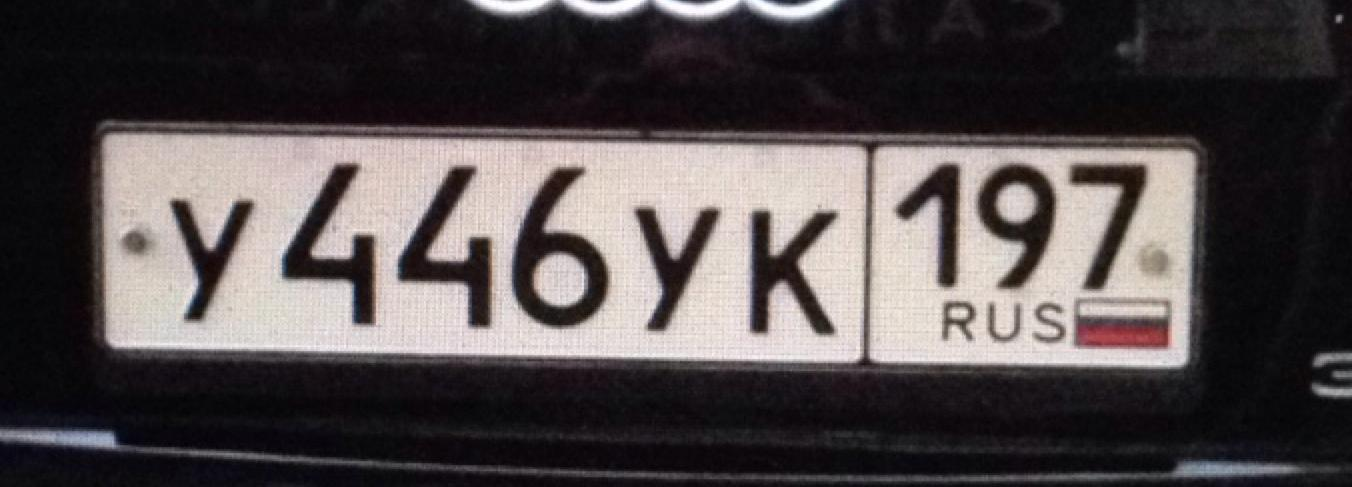license-plateSW: (90, 122, 1208, 374)
